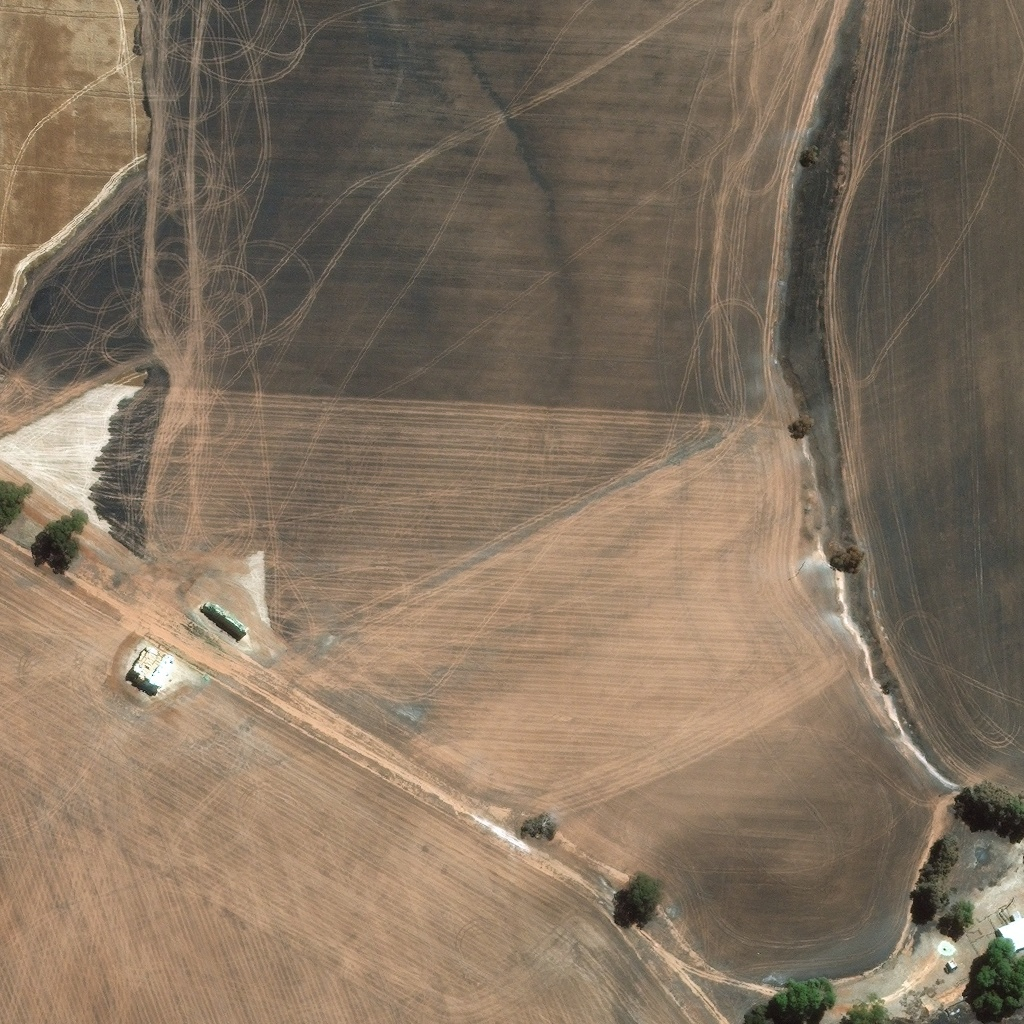0 no-damage: (997, 908, 1023, 954), (946, 956, 958, 968)
